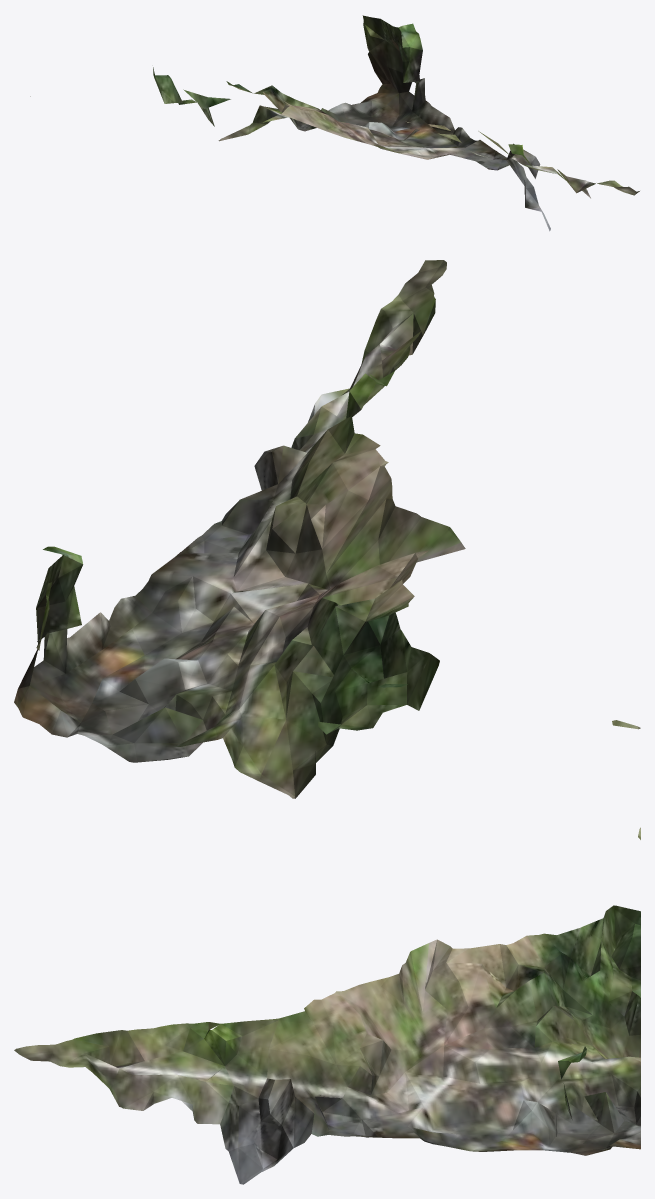
3 views of the same model, one above another, from view 1: azimuth 30°, elevation 25°; view 2: azimuth 150°, elevation 25°; view 3: azimuth 270°, elevation 25° (orthographic). The views are drawn at different scales.
Size of the model in its own units: 21.61 by 5.77 by 25.11.
1 material, 1 textured.
